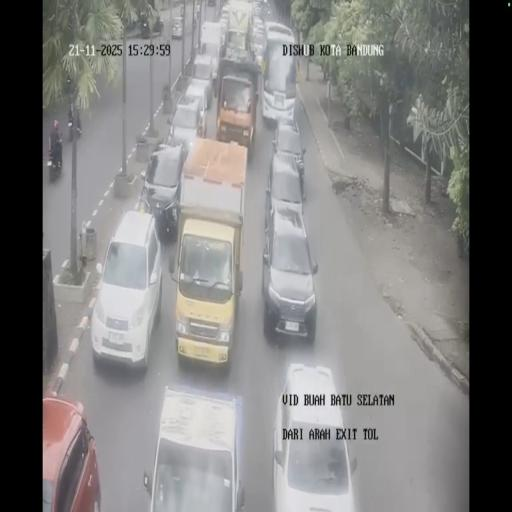3: (171, 138, 248, 366), (261, 25, 299, 129), (215, 69, 257, 158)
car: (146, 386, 244, 511), (91, 209, 163, 368), (262, 196, 318, 342), (140, 141, 186, 241), (270, 112, 306, 202), (166, 97, 205, 160), (190, 52, 218, 101), (250, 8, 266, 68), (218, 6, 230, 52), (171, 15, 184, 39), (257, 1, 272, 19), (194, 2, 200, 20), (179, 4, 185, 16)
